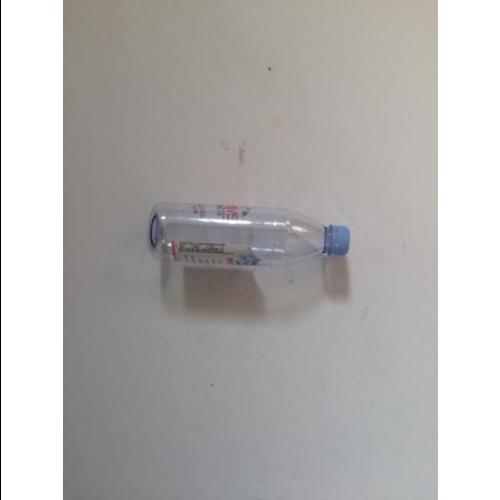plastic: (149, 201, 351, 269)
